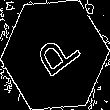P_SW: (27, 26, 83, 84)
